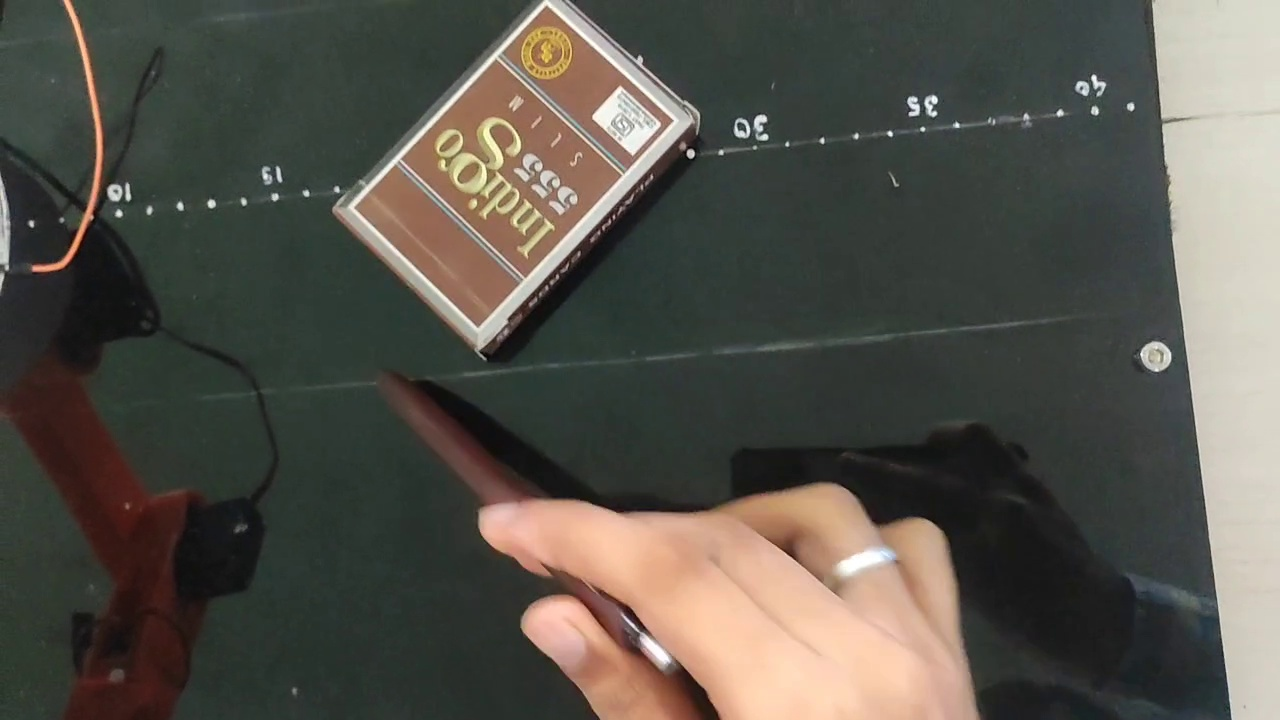BEX: (345, 3, 675, 332)
